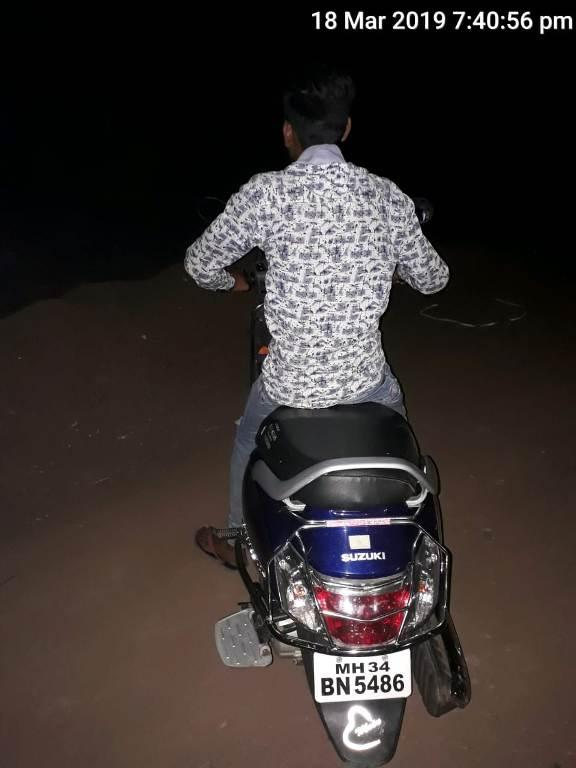plate: (306, 645, 419, 708)
